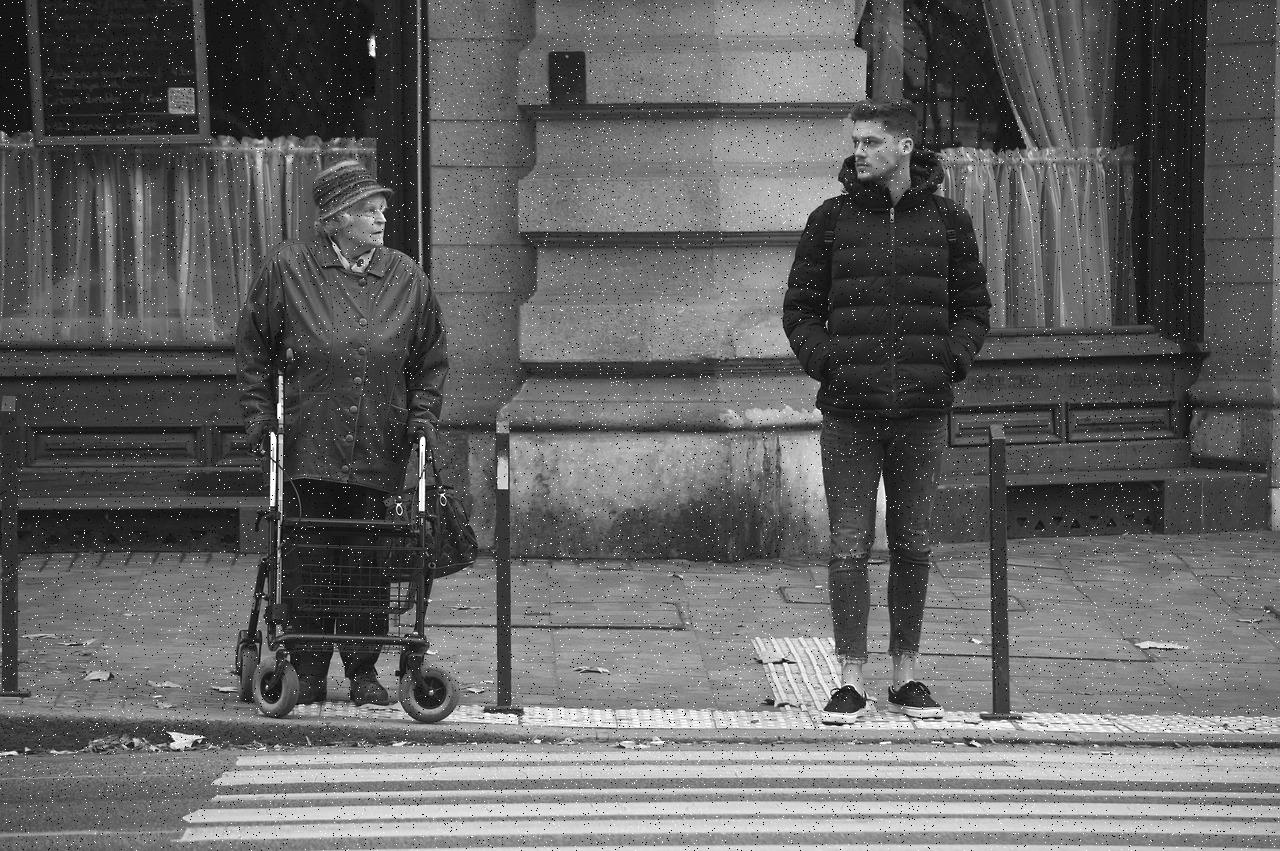pedestrian: (784, 96, 996, 718), (227, 161, 450, 730)
